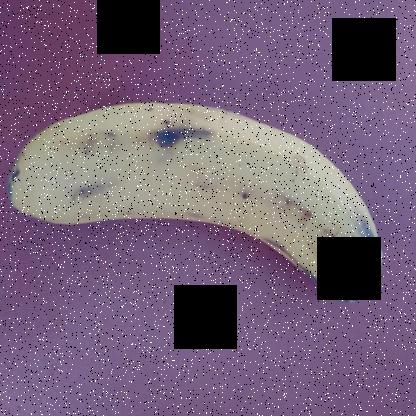ripe: (1, 71, 395, 315)
